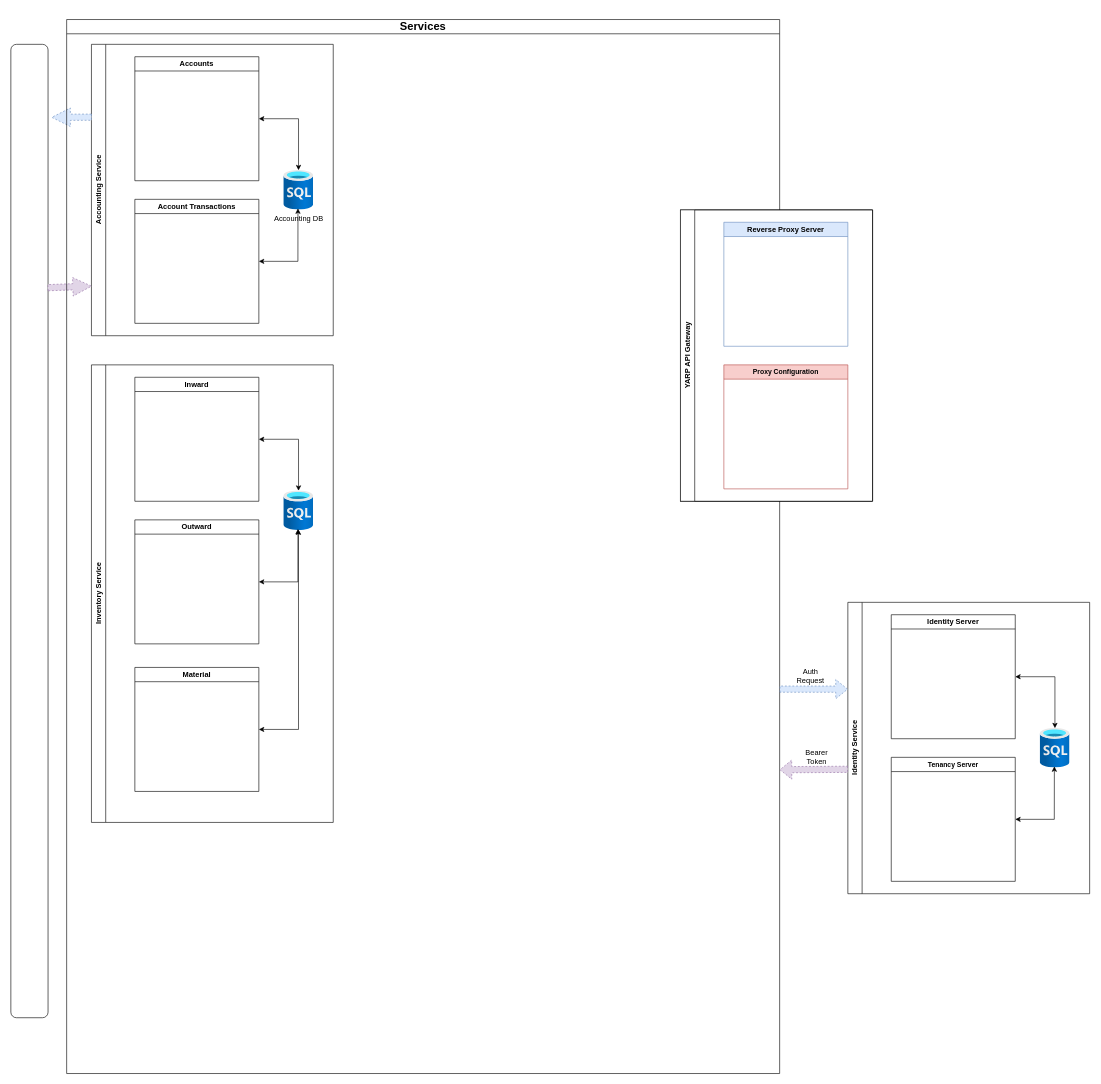
The diagram is 1101 pixels wide and 1084 high, and some of its shapes have lost their labels. The centre of each missing label's shape, as x and y in pixels:
Identity DB: point 1055,748
Inventory DB: point 298,510
Shared Messaging Bus (RabbitMQ): point 29,531
